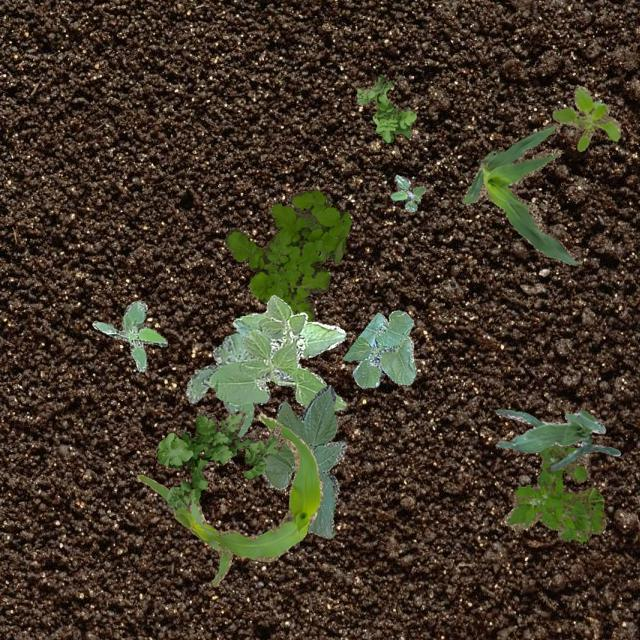crop: (136, 412, 322, 586), (462, 123, 582, 264), (200, 294, 346, 409), (260, 383, 346, 538), (493, 408, 619, 469), (342, 310, 416, 388)
weed: (224, 188, 350, 322), (156, 408, 284, 508), (502, 442, 606, 542), (184, 332, 253, 437), (92, 300, 166, 370), (552, 84, 620, 150), (356, 74, 416, 142), (390, 173, 426, 210)
